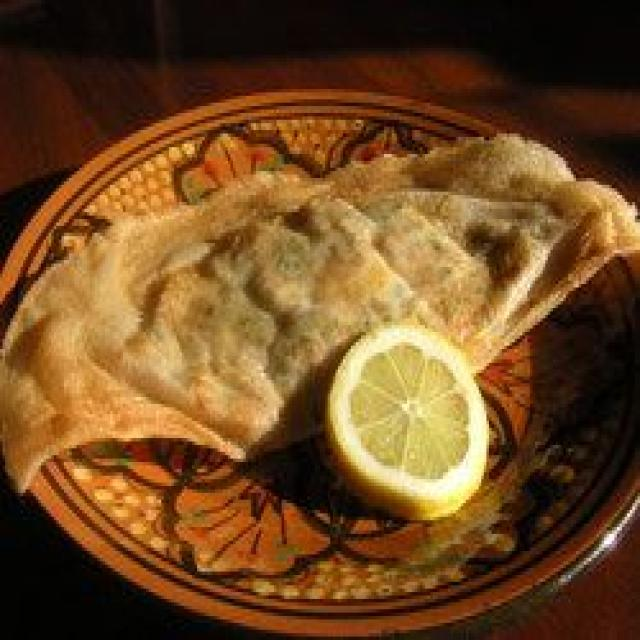brik: (0, 126, 619, 485)
